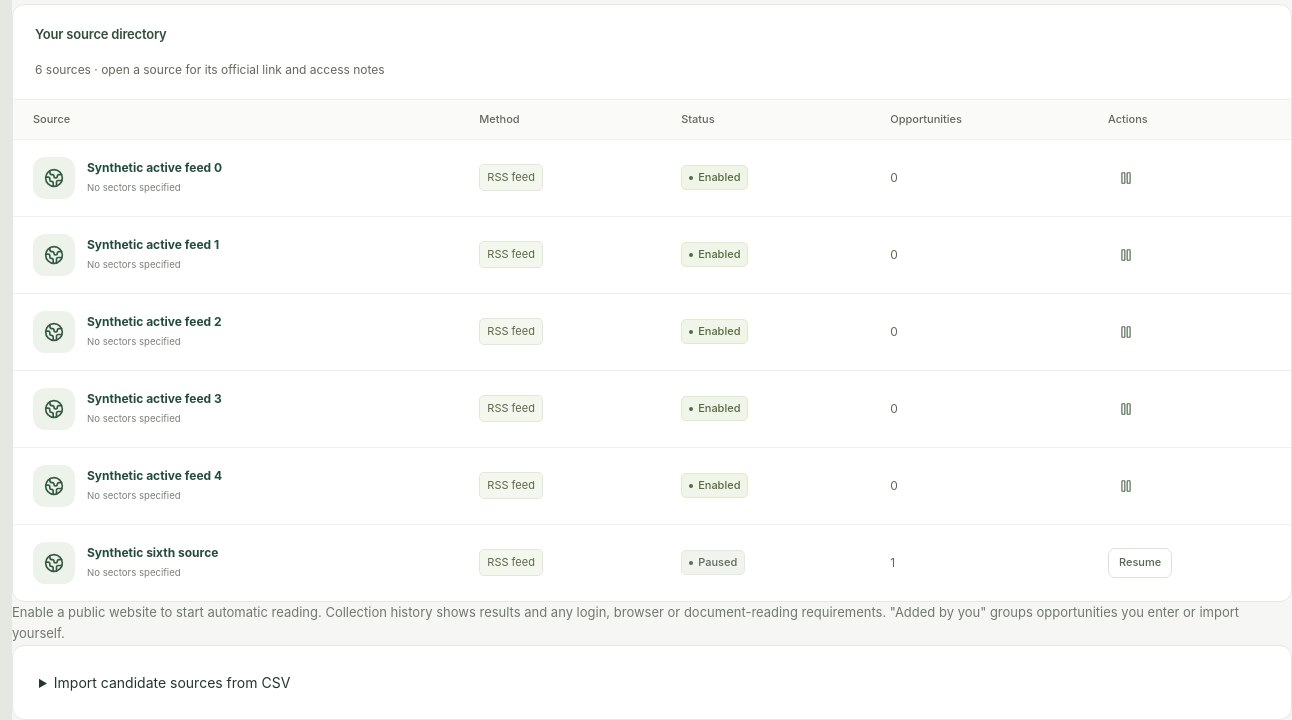
Test: connected screens › enables a sixth source from directory without a client-side source ceiling
(page scrolled)
Click the button "Resume".
click(1140, 563)  # box x1=1108 y1=548 x2=1172 y2=578
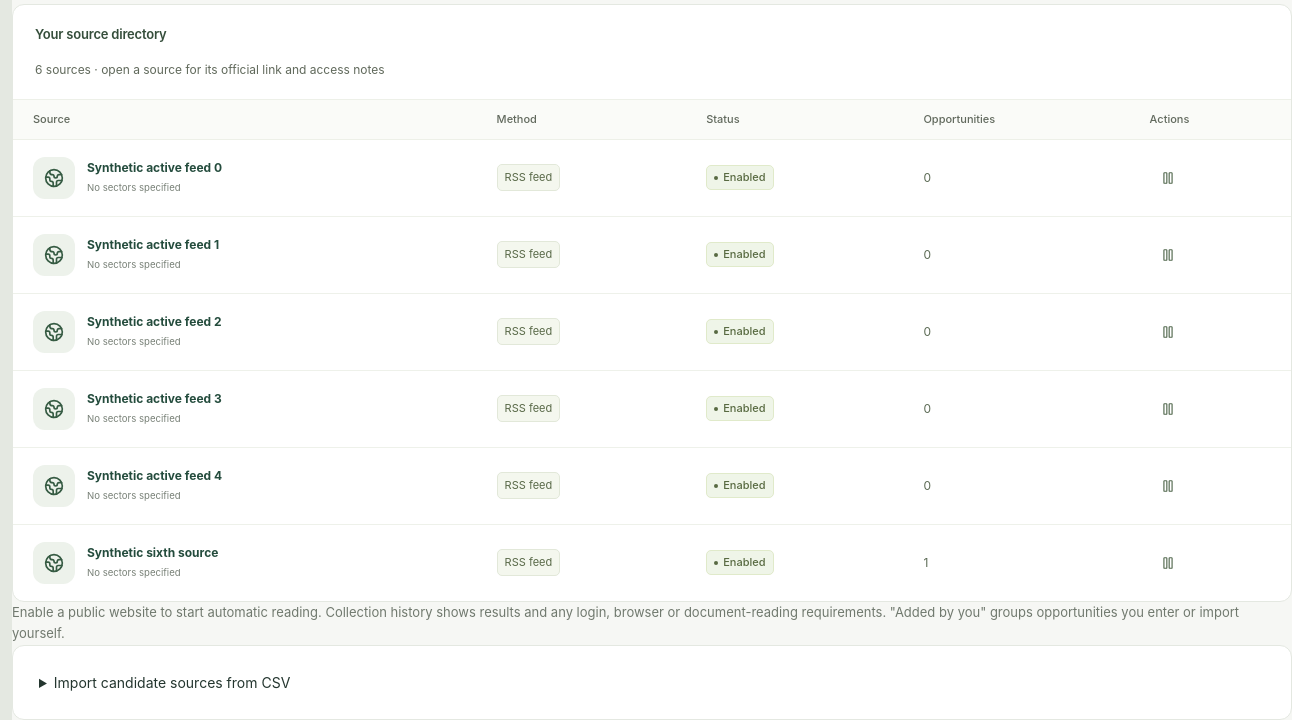
expect the button named "Pause Synthetic sixth source" is shown: met, box x1=1150 y1=548 x2=1186 y2=578
